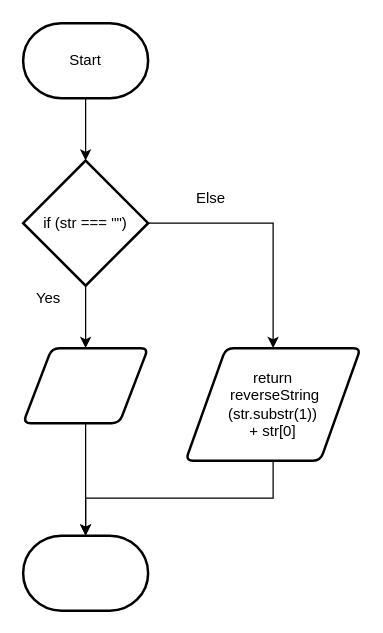
The diagram is 383 pixels wide and 633 high, and some of its shapes have lost their labels. Each missing label, with the box of its shape:
return str: (21, 346, 149, 424)
Stop: (21, 534, 149, 611)
